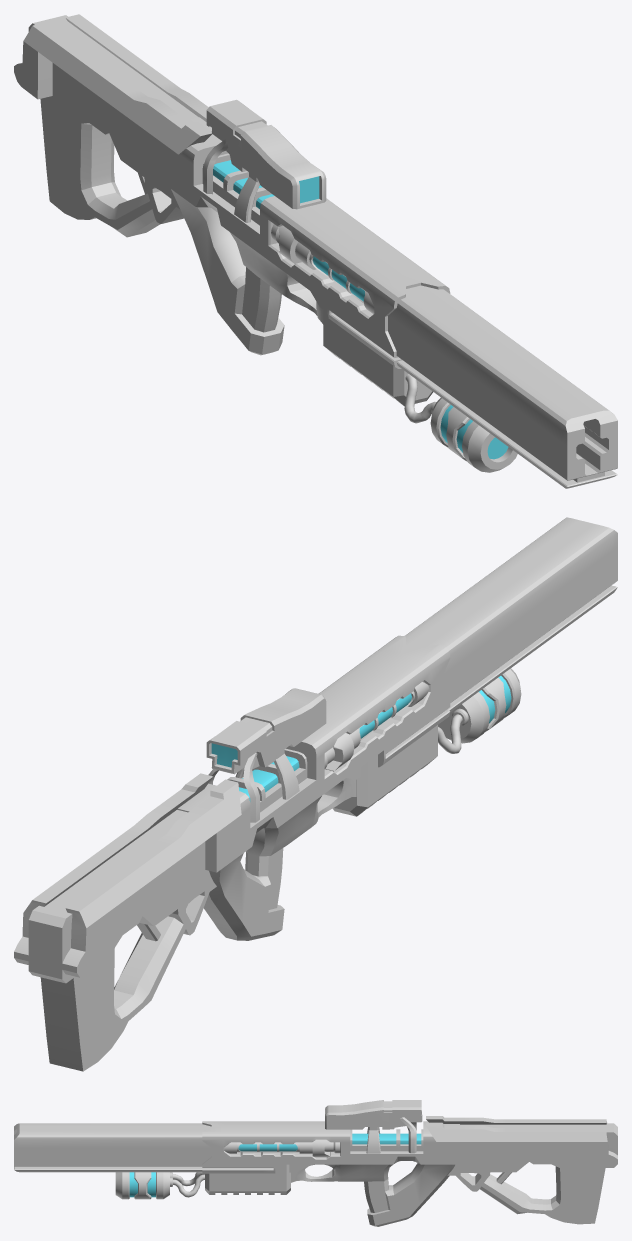
The model's file is Sniper.FBX.
3 renders of one model, top to bottom at view 1: azimuth 30°, elevation 25°; view 2: azimuth 150°, elevation 25°; view 3: azimuth 270°, elevation 25°, orthographic. The views are drawn at different scales.
Visible parts, largest first — view 1: Sniper; view 2: Sniper; view 3: Sniper.
Part boxes in pixels (x1,y1,x2,y2): Sniper: (14, 14, 617, 488); Sniper: (14, 517, 617, 1071); Sniper: (14, 1100, 617, 1226).
Bounding box in the file's own units: 120 × 390 × 1762.
